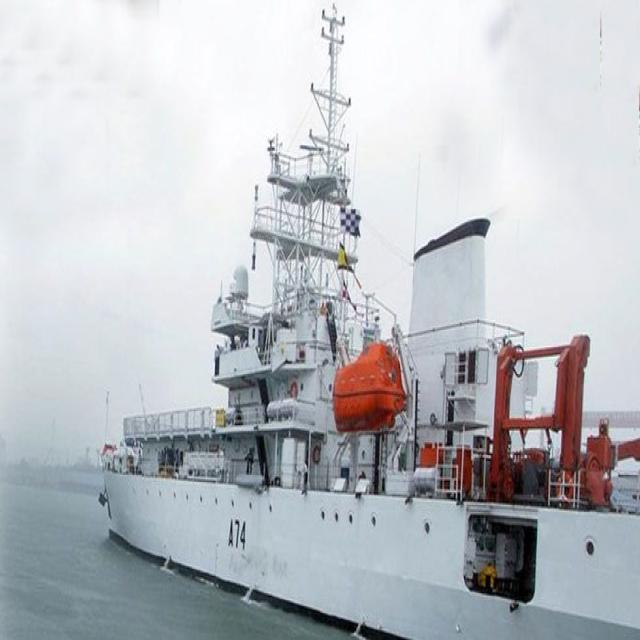Research-Vessel-Sagardhwani-Class-IND: (96, 0, 640, 640)
